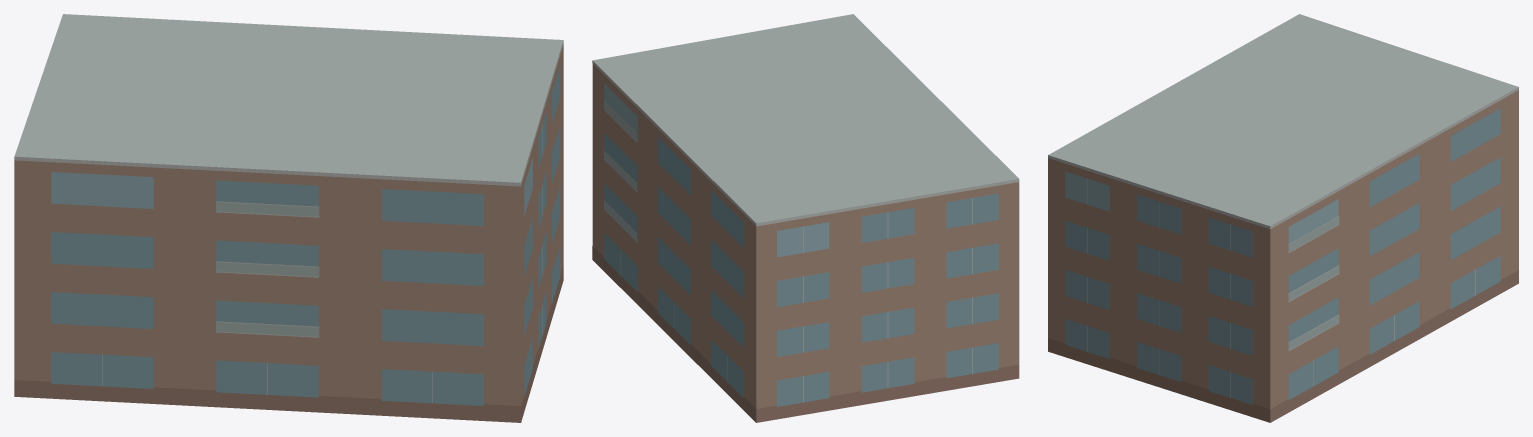
Rendered from survey-upis-32523362.glb.
The picture shows the model from 3 angles, left to right: view 1: azimuth 30°, elevation 25°; view 2: azimuth 150°, elevation 25°; view 3: azimuth 270°, elevation 25°; orthographic projection. The views are drawn at different scales.
Visible parts, largest first — view 1: survey-upis-32523362.tmp; view 2: survey-upis-32523362.tmp; view 3: survey-upis-32523362.tmp.
Boxes of the visible parts, x1,y1,x2,y2 form: survey-upis-32523362.tmp: (14, 14, 563, 422); survey-upis-32523362.tmp: (592, 14, 1019, 422); survey-upis-32523362.tmp: (1048, 14, 1518, 422).
Size of the model in its own units: 37.01 by 15.97 by 34.67.
